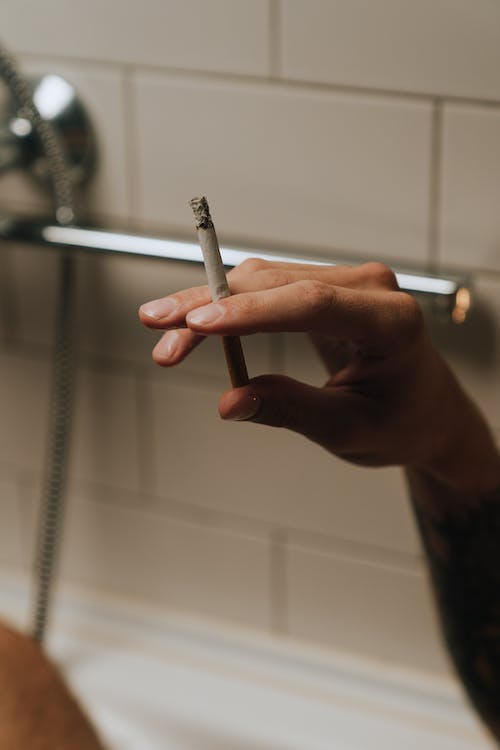cigarette: (187, 191, 254, 392)
